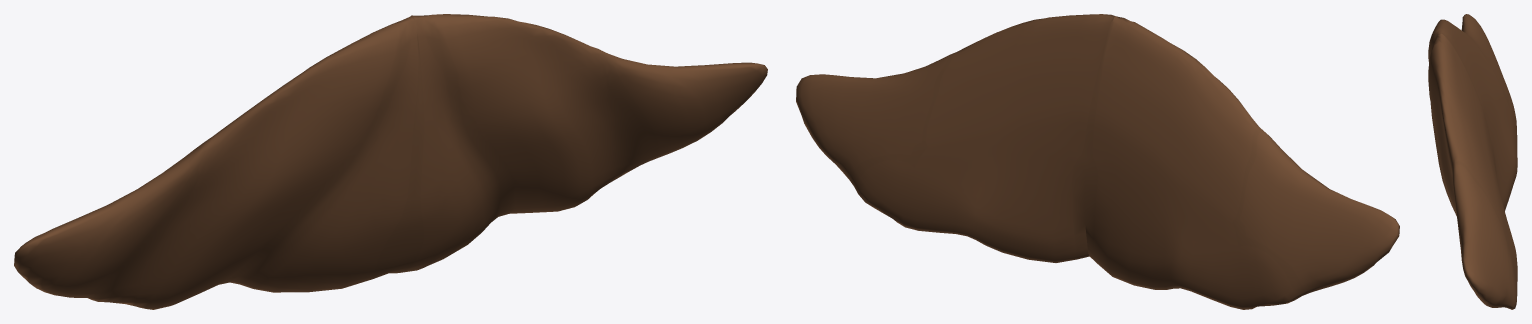
The model's file is GG_Character_MoustacheAccess.fbx.
The picture shows the model from 3 angles, left to right: view 1: azimuth 30°, elevation 25°; view 2: azimuth 150°, elevation 25°; view 3: azimuth 270°, elevation 25°; orthographic projection. The views are drawn at different scales.
Parts seen in each view (by area): view 1: Moustachee; view 2: Moustachee; view 3: Moustachee.
Part boxes in pixels (left/top/right/bottom): Moustachee: left=14, top=14, right=767, bottom=309; Moustachee: left=796, top=14, right=1399, bottom=309; Moustachee: left=1428, top=14, right=1517, bottom=309.
Size of the model in its own units: 0.7023 by 0.2586 by 0.1011.
